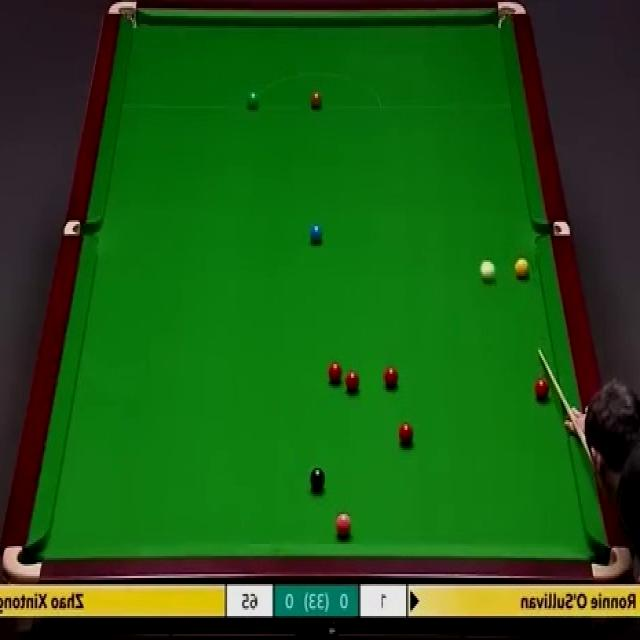black-ball: (309, 467, 325, 492)
blue-ball: (309, 222, 324, 245)
brown-ball: (310, 91, 323, 110)
green-ball: (247, 90, 259, 112)
pink-ball: (334, 511, 353, 538)
red-ball: (534, 375, 551, 402), (382, 364, 398, 392), (397, 422, 415, 446), (344, 370, 360, 397), (328, 361, 342, 386)
white-ball: (480, 258, 498, 284)
yellow-ball: (515, 252, 531, 281)
